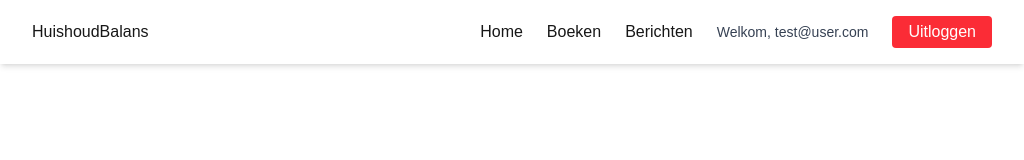
Navbar › logs error on logout and shows error message in UI
Click the button "Uitloggen" at (942, 32), box [892,16,992,48]
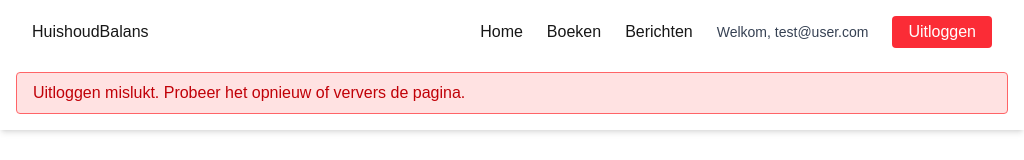
Expected: the text "Uitloggen mislukt. Probeer het opnieuw of ververs de pagina." is shown, [16,72,1008,114]
